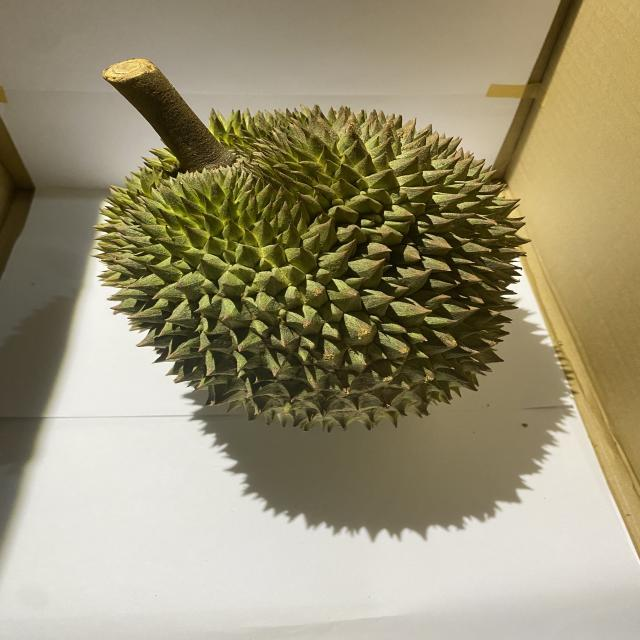immature: (90, 103, 532, 434)
